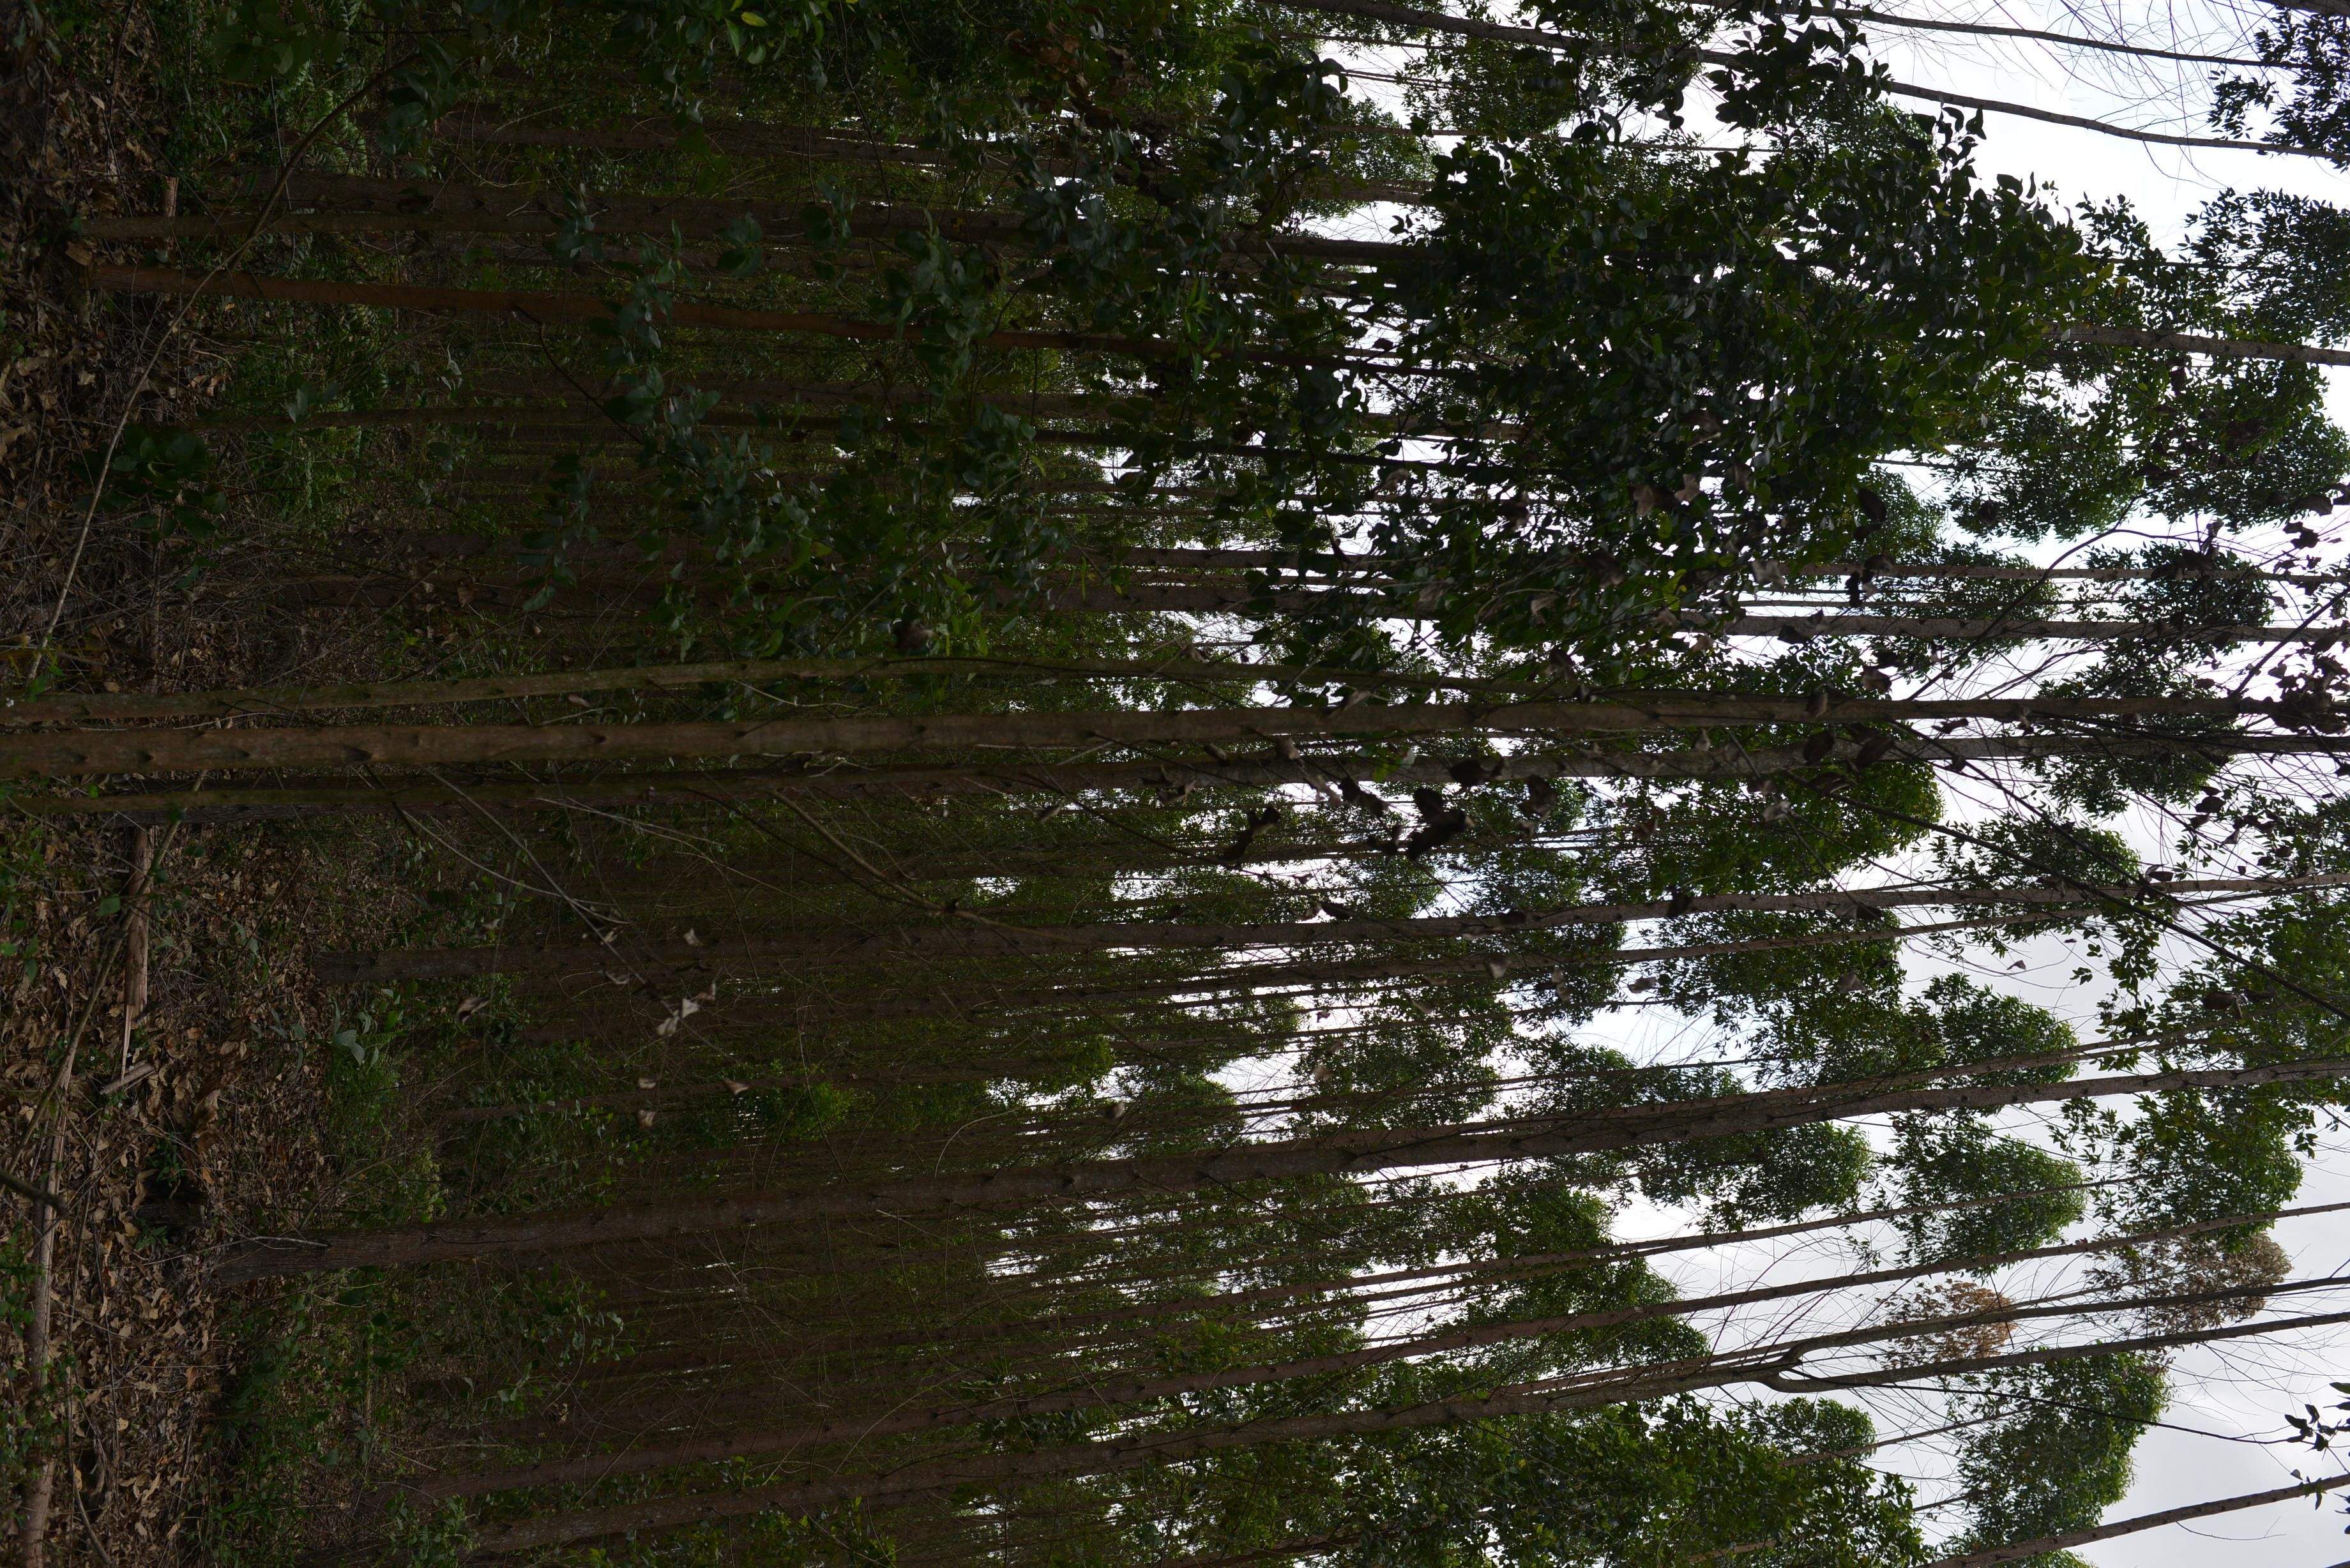Wither Tree Parts: (2079, 1193, 2280, 1325), (1858, 1263, 2032, 1389)
